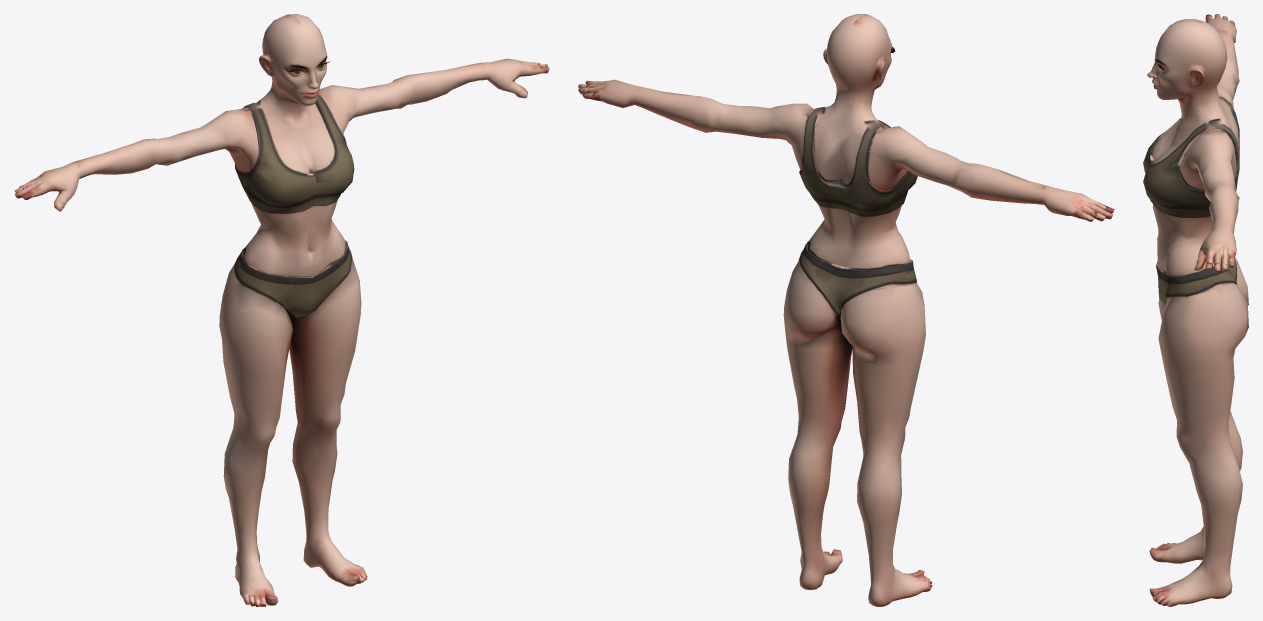
File: 20261121003301_3c85ddb2.fbx
The picture shows the model from 3 angles, left to right: view 1: azimuth 30°, elevation 25°; view 2: azimuth 150°, elevation 25°; view 3: azimuth 270°, elevation 25°; orthographic projection.
Parts seen in each view (by area): view 1: part_000, part_001, part_002; view 2: part_000, part_001, part_002; view 3: part_000, part_001, part_002.
Boxes of the visible parts, x1=… form: part_000: x1=14, y1=14, x2=549, y2=606; part_001: x1=235, y1=93, x2=354, y2=213; part_002: x1=234, y1=240, x2=352, y2=319; part_000: x1=578, y1=14, x2=1114, y2=606; part_001: x1=799, y1=106, x2=917, y2=216; part_002: x1=798, y1=241, x2=916, y2=315; part_000: x1=1147, y1=14, x2=1248, y2=606; part_001: x1=1143, y1=96, x2=1239, y2=218; part_002: x1=1156, y1=260, x2=1237, y2=305.
Size of the model in its own units: 104 by 105 by 18.11.
Materials: 1 (1 with a texture image).
